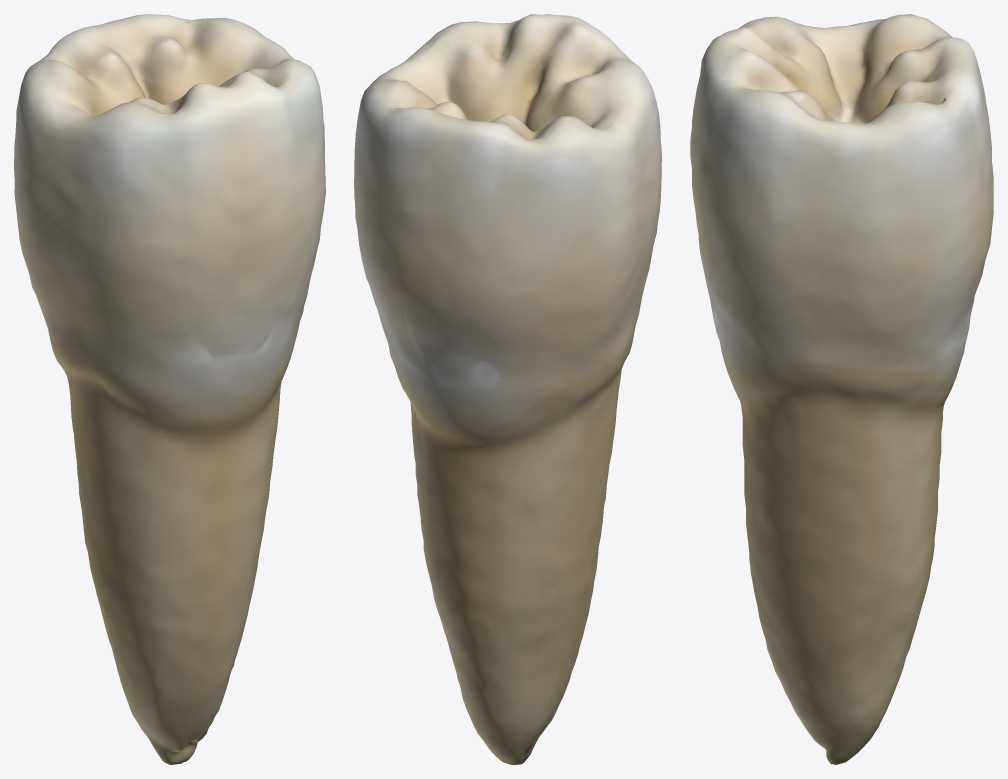
File: tooth.glb
3 views of the same model, side by side, from view 1: azimuth 30°, elevation 25°; view 2: azimuth 150°, elevation 25°; view 3: azimuth 270°, elevation 25° (orthographic). The views are drawn at different scales.
Bounding box in the file's own units: 0.7397 × 1.91 × 0.7241.
1 material, 1 textured.
